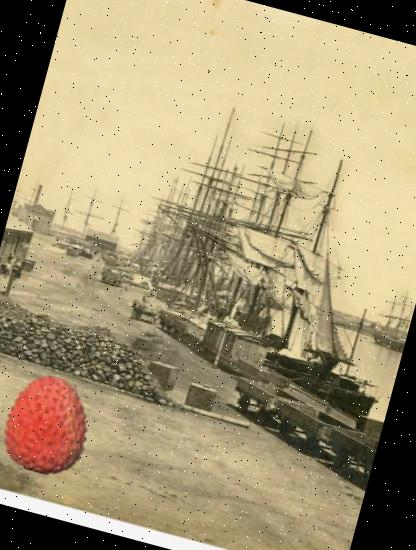Lychee: (0, 364, 110, 486)
